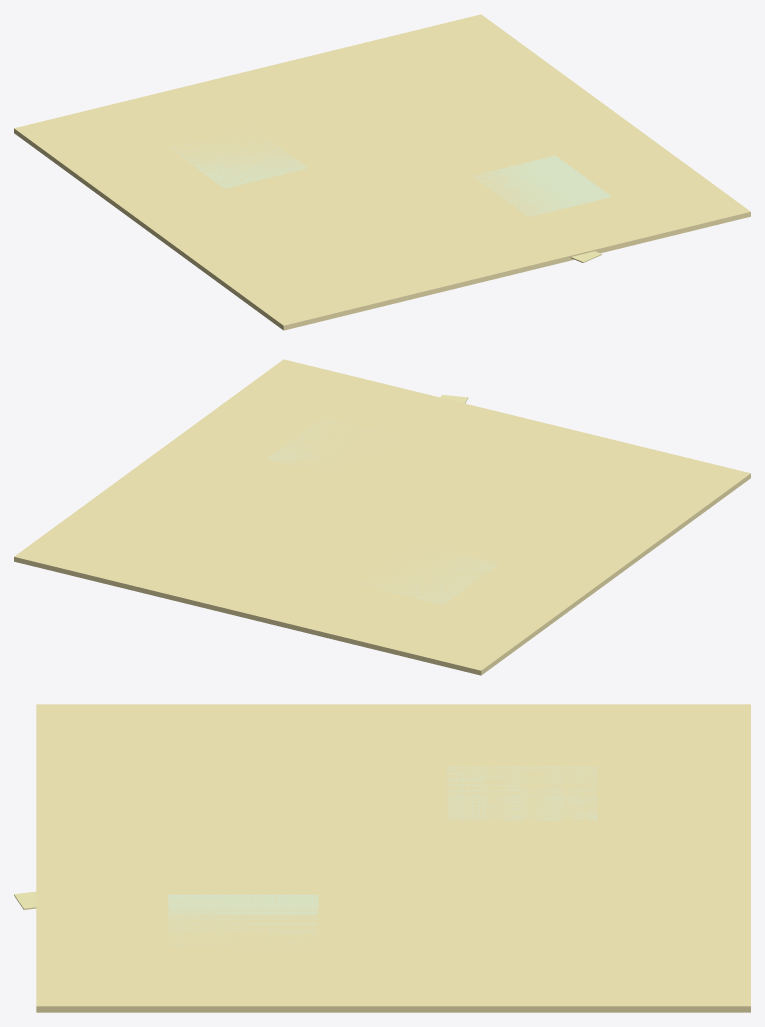
File: road_construction_trench_cut.glb
3 renders of one model, top to bottom at view 1: azimuth 30°, elevation 25°; view 2: azimuth 150°, elevation 25°; view 3: azimuth 270°, elevation 25°, orthographic. The views are drawn at different scales.
Visible parts, largest first — view 1: base, plate_right, plate_left; view 2: base, plate_left, plate_right; view 3: base, plate_left, plate_right.
Part boxes in pixels (left/top/right/bottom): base: left=14, top=14, right=750, bottom=330; plate_right: left=472, top=155, right=611, bottom=217; plate_left: left=171, top=127, right=307, bottom=188; base: left=14, top=359, right=750, bottom=675; plate_left: left=362, top=550, right=498, bottom=604; plate_right: left=266, top=418, right=399, bottom=468; base: left=36, top=704, right=750, bottom=1012; plate_left: left=447, top=766, right=597, bottom=820; plate_right: left=168, top=894, right=318, bottom=948.
Bounding box in the file's own units: 4 × 0.04 × 4.12.
